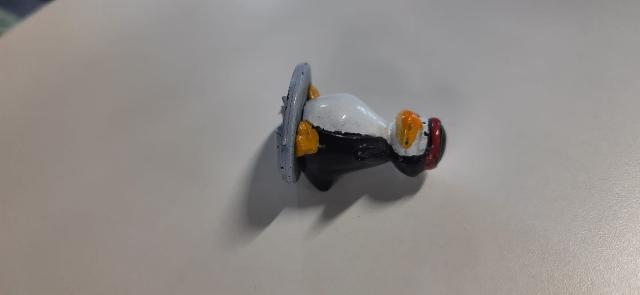Penguin: (274, 53, 450, 205)
